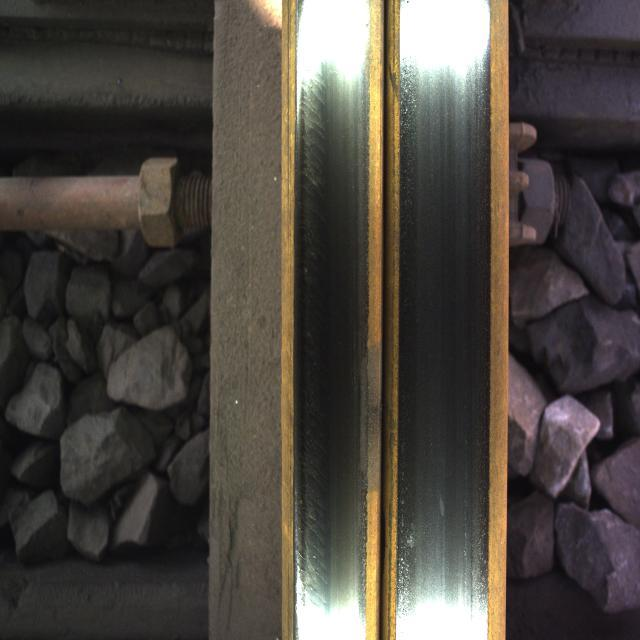break: (403, 71, 485, 544), (300, 69, 366, 569)
